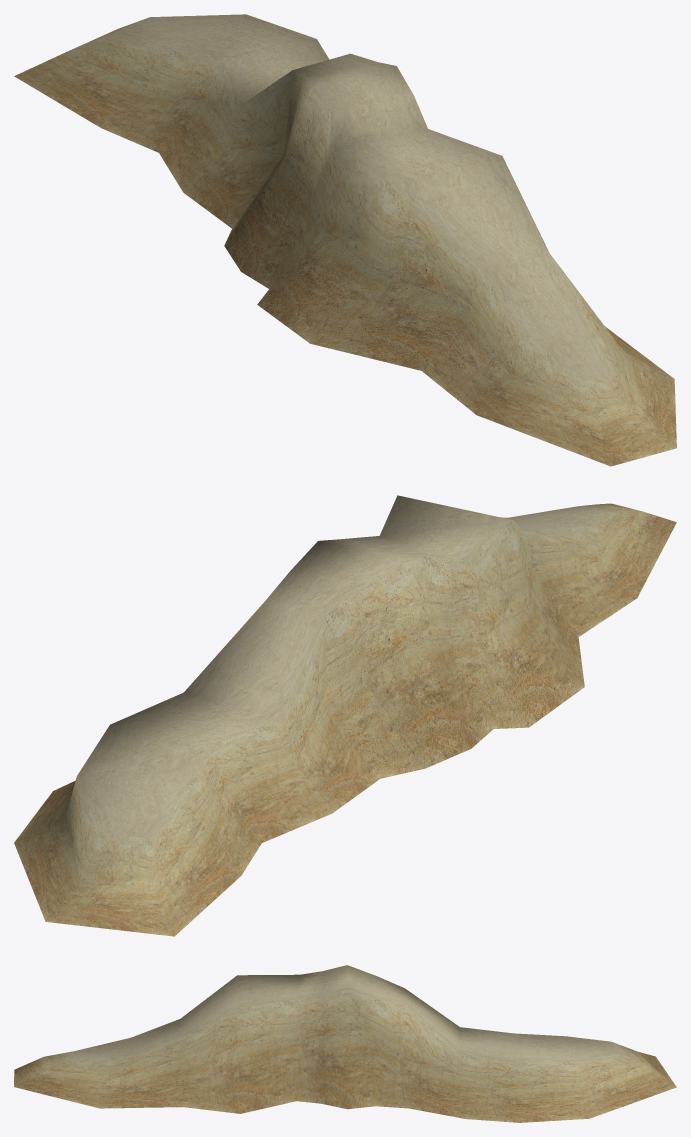
Rendered from rock_beach_spine_a3_l3.fbx.
3 renders of one model, top to bottom at view 1: azimuth 30°, elevation 25°; view 2: azimuth 150°, elevation 25°; view 3: azimuth 270°, elevation 25°, orthographic. The views are drawn at different scales.
Visible parts, largest first — view 1: mesh_node; view 2: mesh_node; view 3: mesh_node.
Part boxes in pixels (x1,y1,x2,y2): mesh_node: (14,14,676,466); mesh_node: (14,495,676,936); mesh_node: (14,965,676,1122).
Size of the model in its own units: 7.53 by 4.26 by 25.13.
